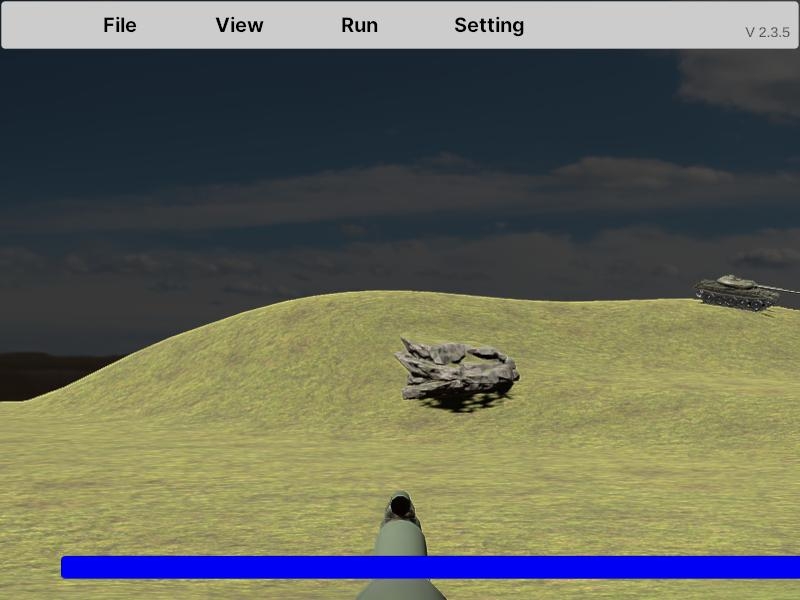Tank: (695, 274, 800, 312)
